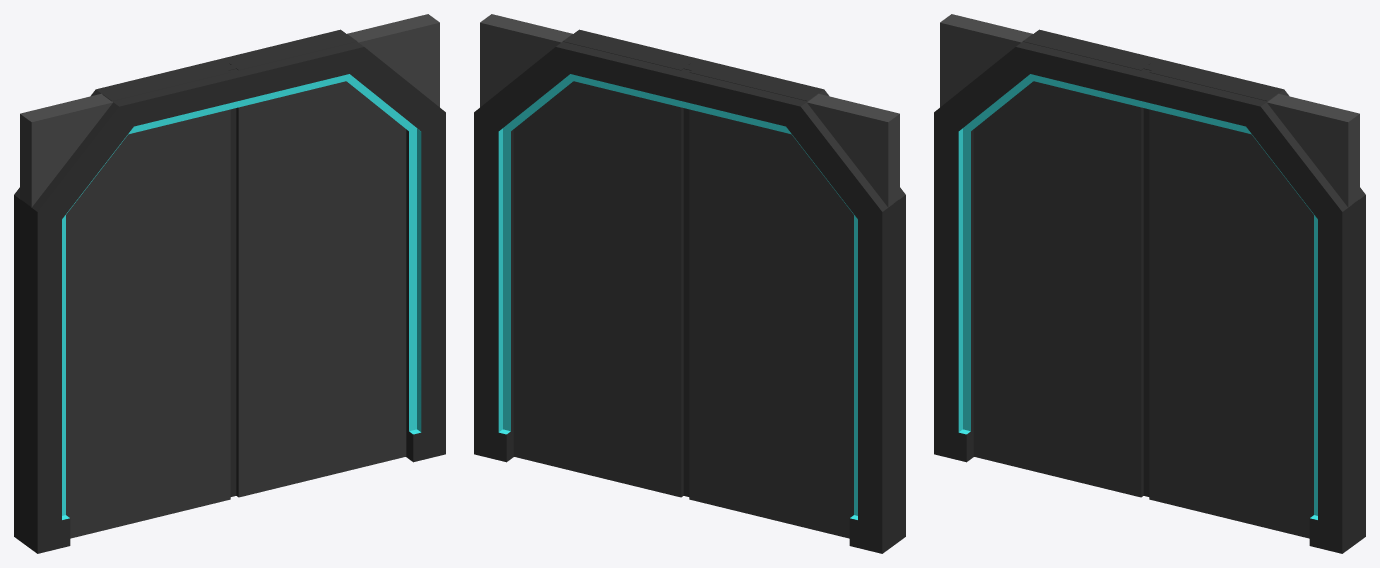
Rendered from HJD_SFB_Door_02.fbx.
3 renders of one model, left to right at view 1: azimuth 30°, elevation 25°; view 2: azimuth 150°, elevation 25°; view 3: azimuth 330°, elevation 25°, orthographic.
Visible parts, largest first — view 1: Panel_Right, Panel_Left, Frame; view 2: Panel_Right, Panel_Left, Frame; view 3: Panel_Left, Panel_Right, Frame.
Boxes of the visible parts, <box> form: Panel_Right: <box>228,34,406,497</box>; Panel_Left: <box>21,65,232,547</box>; Frame: <box>14,14,445,553</box>; Panel_Right: <box>513,34,691,497</box>; Panel_Left: <box>687,65,898,544</box>; Frame: <box>474,14,905,553</box>; Panel_Left: <box>973,34,1151,497</box>; Panel_Right: <box>1147,65,1358,543</box>; Frame: <box>934,14,1365,553</box>.
Size of the model in its own units: 100 by 100 by 10.
